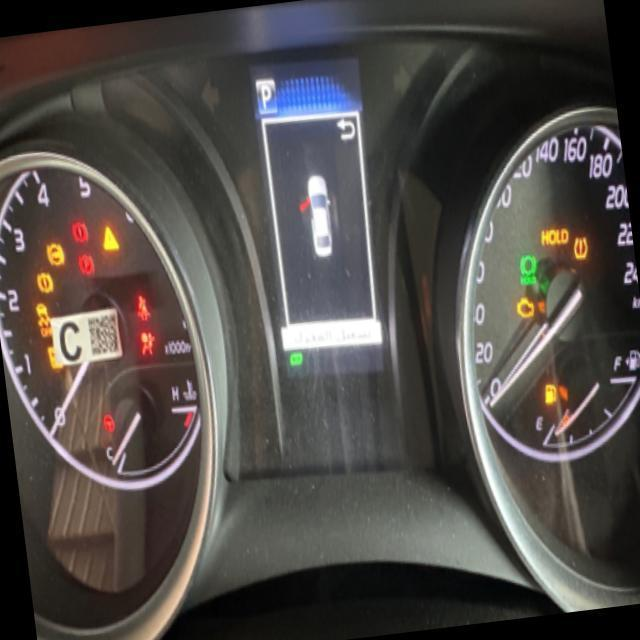Central Warning lamp: (97, 218, 122, 260)
Low fuel level: (540, 377, 560, 411)
